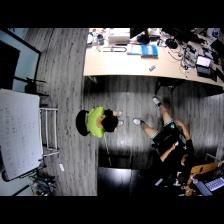normal: (133, 97, 195, 167), (84, 106, 123, 140)
